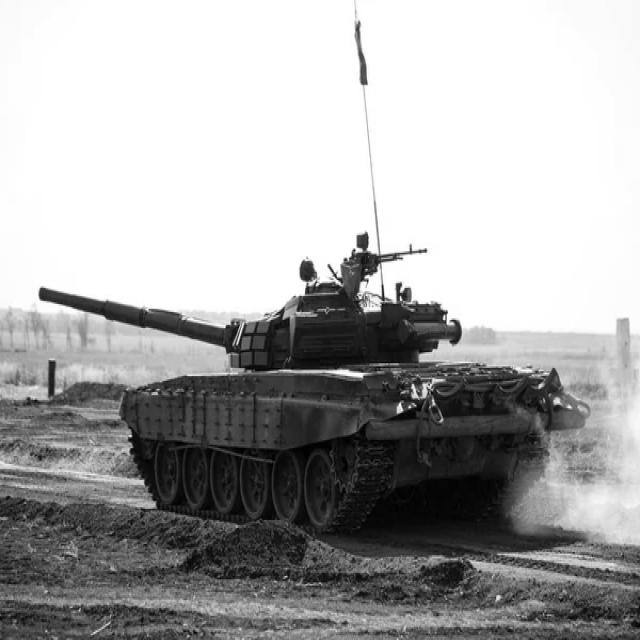Tank: (36, 223, 588, 537)
